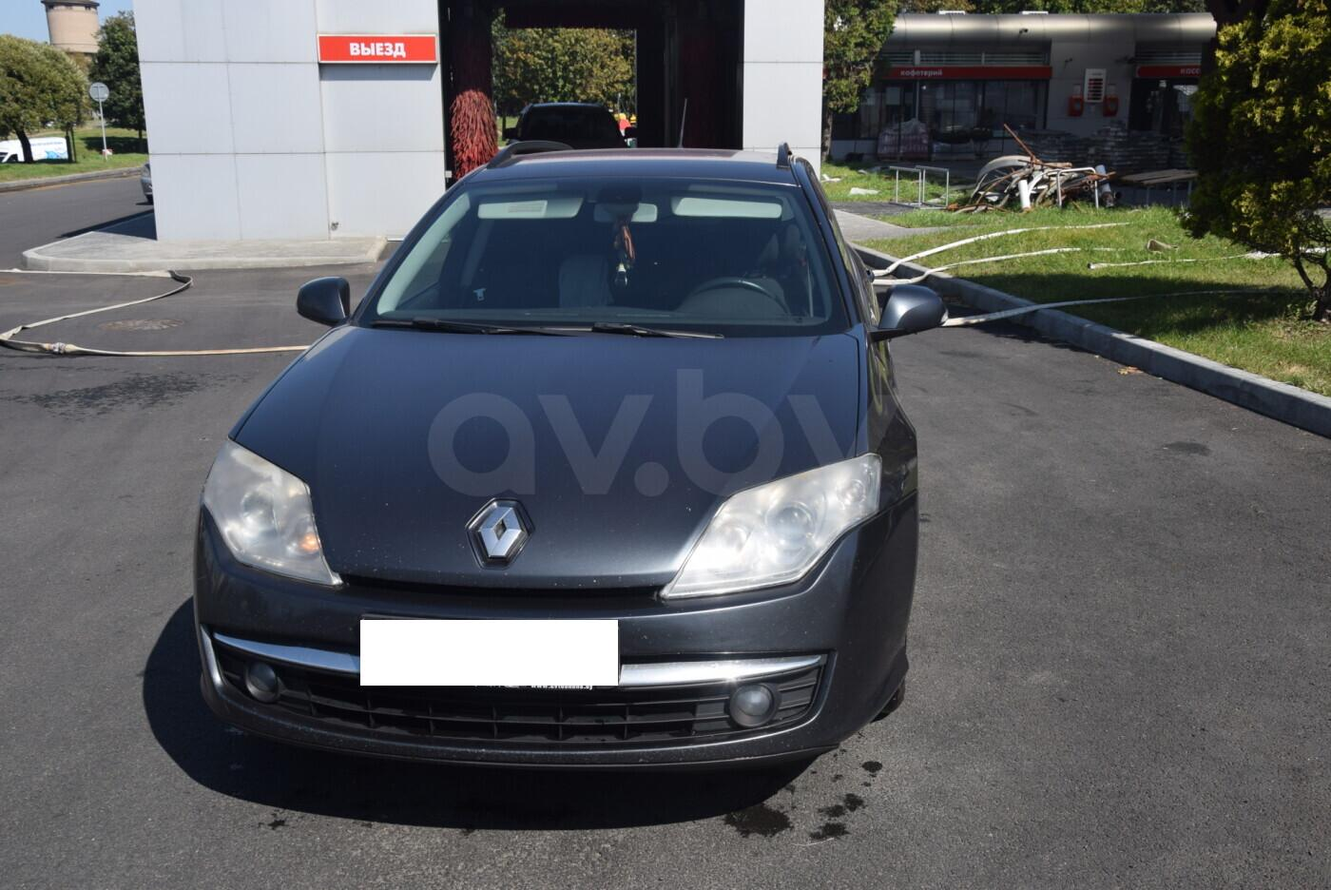Laguna_2007-2011: (194, 149, 945, 765)
